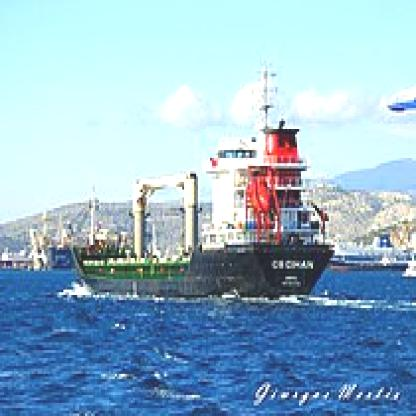Tanker: (67, 53, 343, 316)
